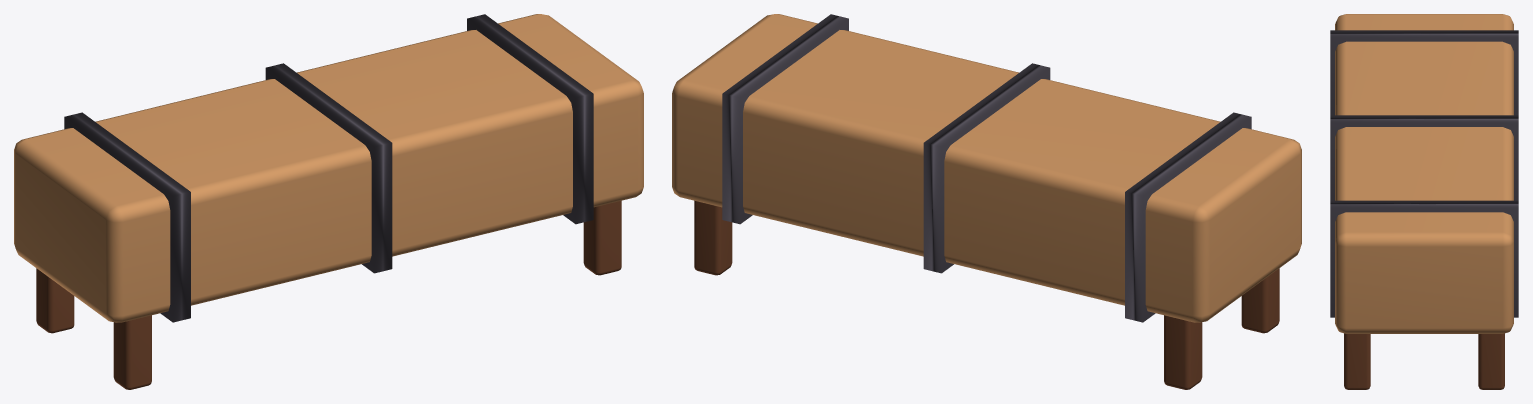
The model's file is gulch_trough.glb.
The picture shows the model from 3 angles, left to right: view 1: azimuth 30°, elevation 25°; view 2: azimuth 150°, elevation 25°; view 3: azimuth 270°, elevation 25°; orthographic projection. The views are drawn at different scales.
Parts seen in each view (by area): view 1: Trough; view 2: Trough; view 3: Trough.
Boxes of the visible parts, <box> form: Trough: <box>14,14,643,389</box>; Trough: <box>672,14,1301,389</box>; Trough: <box>1330,14,1518,389</box>.
Size of the model in its own units: 2.4 by 0.825 by 0.84.
